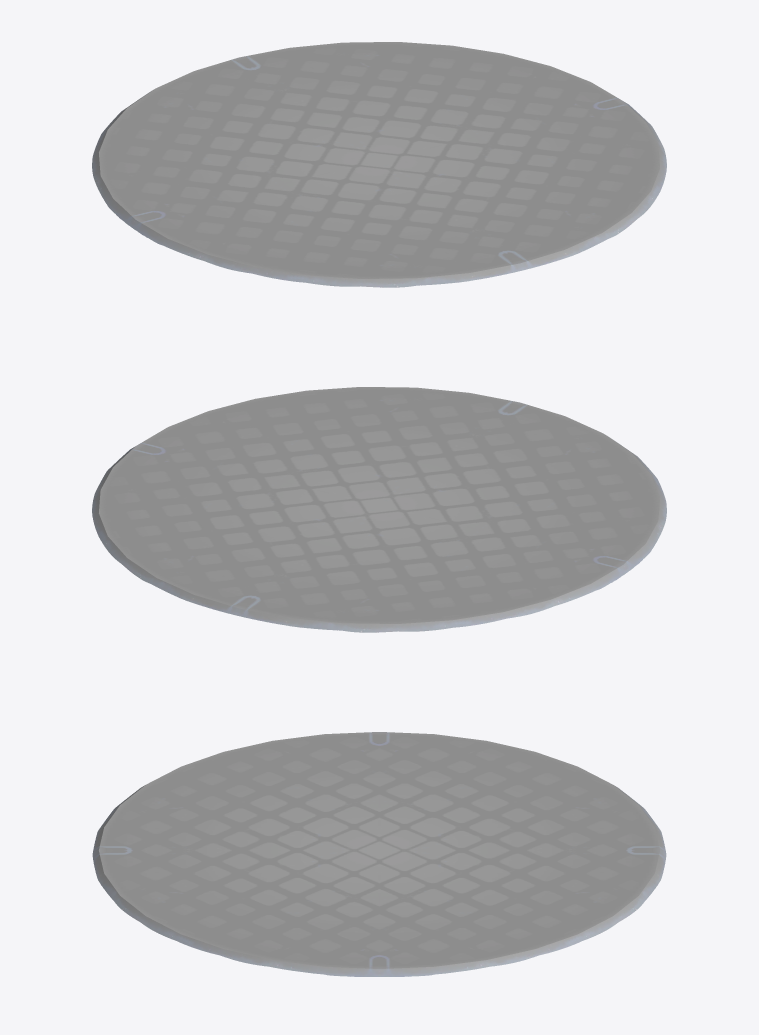
The model's file is pref_fx_NeutralScoreArea03_winter_orange_floor_lv2.fbx.
3 renders of one model, top to bottom at view 1: azimuth 30°, elevation 25°; view 2: azimuth 150°, elevation 25°; view 3: azimuth 270°, elevation 25°, orthographic.
Parts seen in each view (by area): view 1: sm_prop_platform06a_lv2; view 2: sm_prop_platform06a_lv2; view 3: sm_prop_platform06a_lv2.
Part boxes in pixels (x1,y1,x2,y2): sm_prop_platform06a_lv2: [92, 42, 666, 287]; sm_prop_platform06a_lv2: [92, 387, 666, 632]; sm_prop_platform06a_lv2: [92, 732, 666, 976].
Size of the model in its own units: 7.46 by 0.2009 by 7.46.
